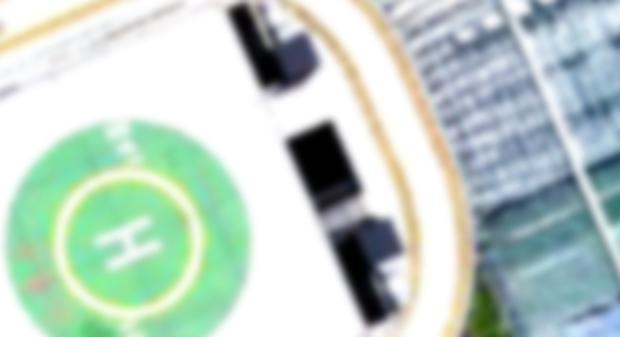Apron: (49, 162, 213, 322)
